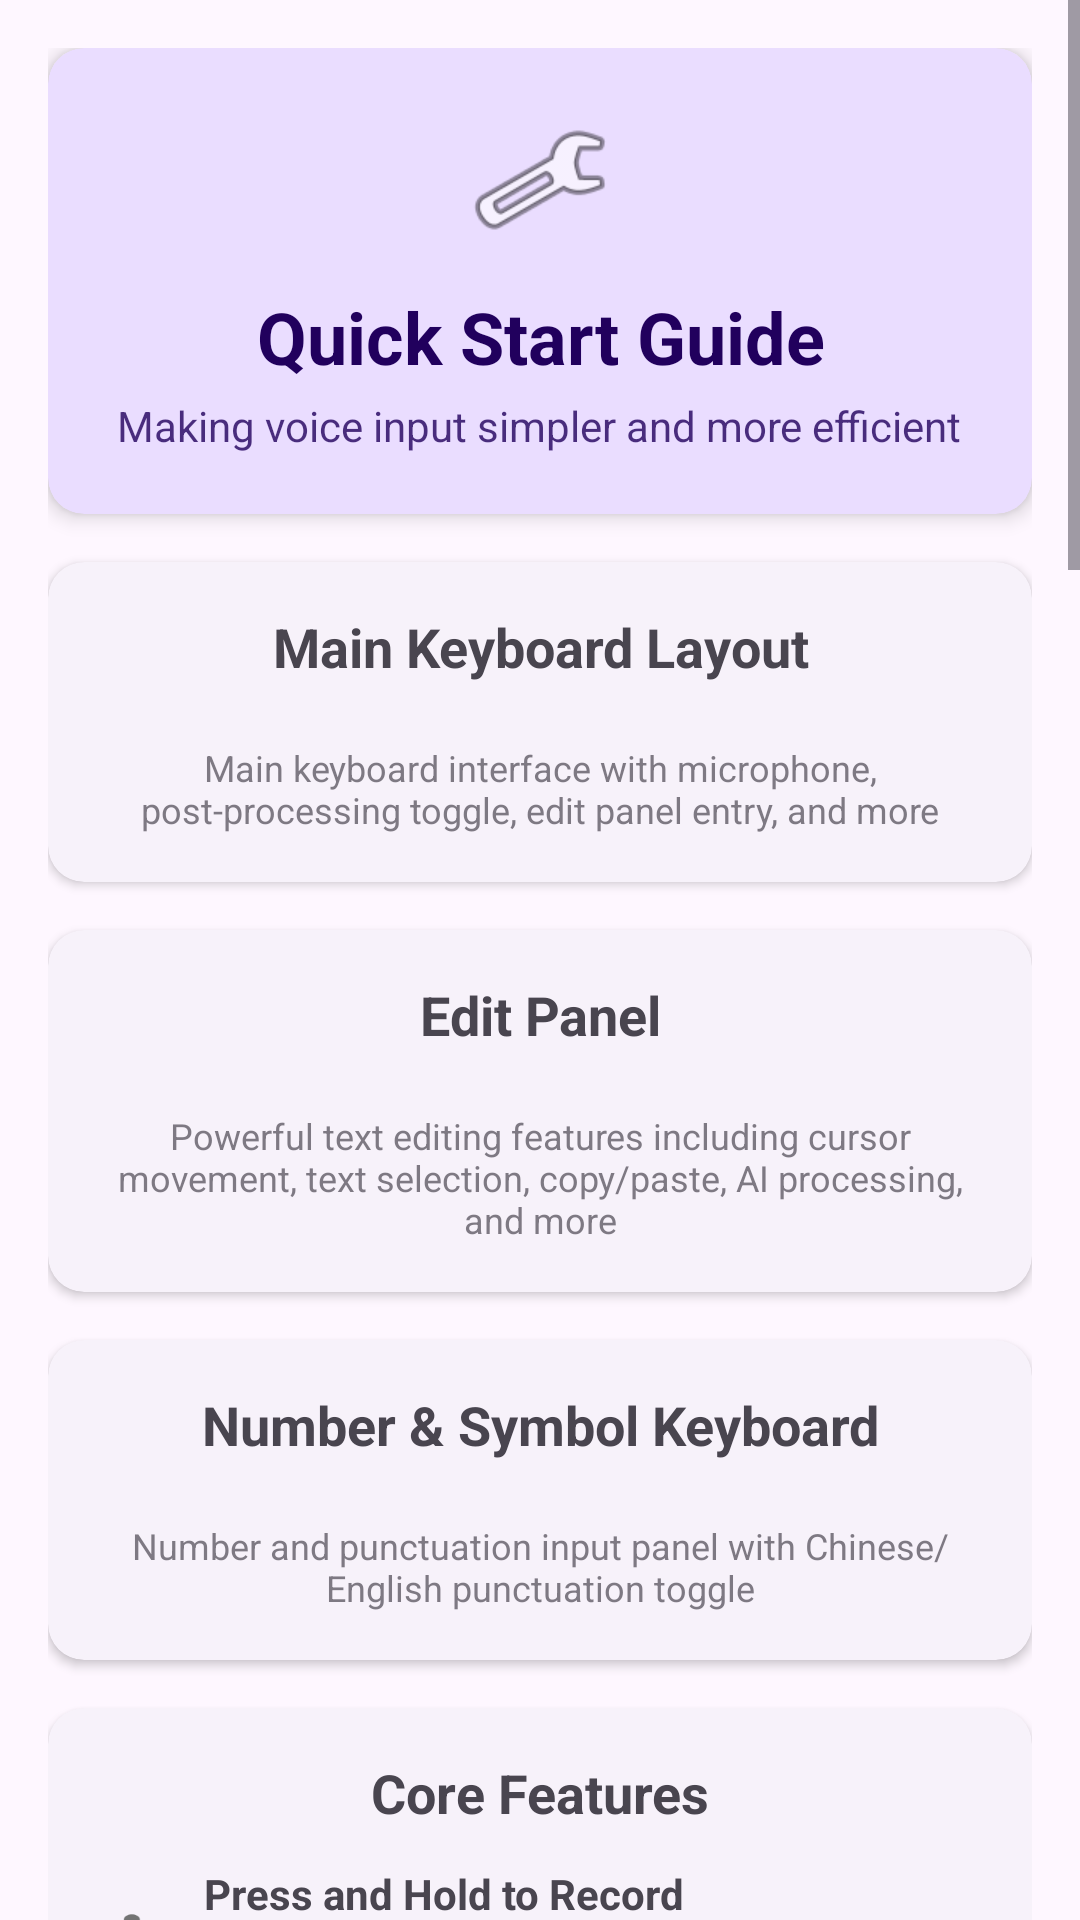

Where to tap for icons on this 1080×1920 app screen, as [x,y]:
preferences: [540,180]
